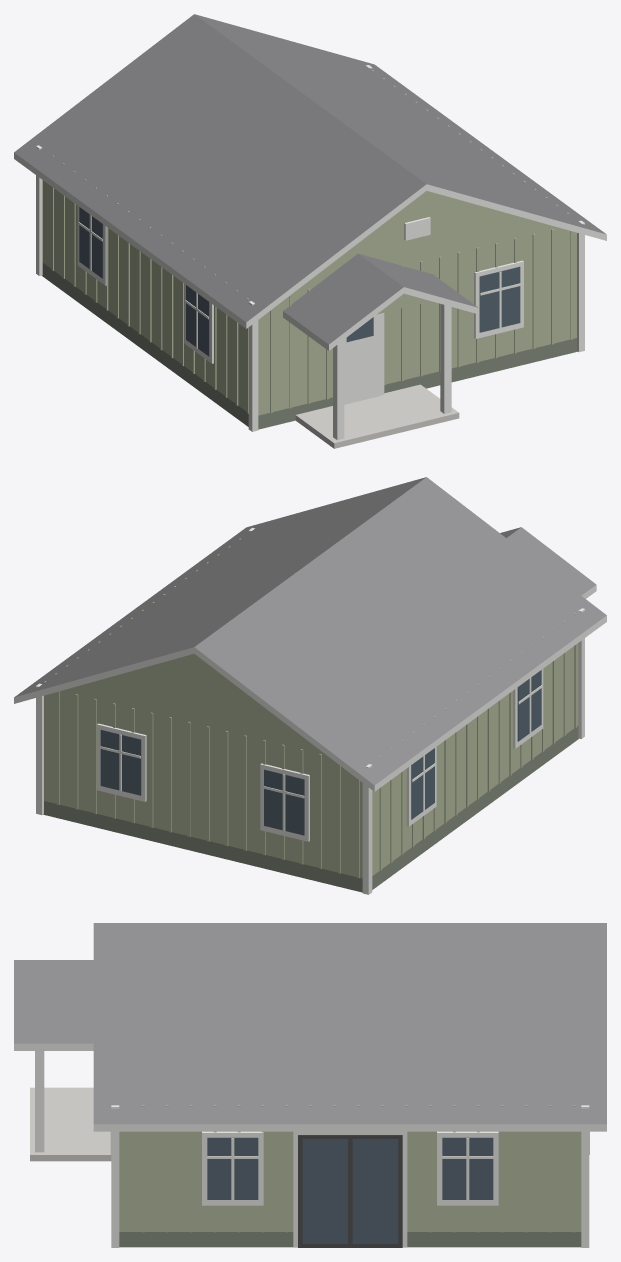
The model's file is manteca-sage.glb.
3 views of the same model, one above another, from view 1: azimuth 30°, elevation 25°; view 2: azimuth 150°, elevation 25°; view 3: azimuth 270°, elevation 25° (orthographic). The views are drawn at different scales.
Visible parts, largest first — view 1: The Manteca (sage); view 2: The Manteca (sage); view 3: The Manteca (sage).
Boxes of the visible parts, left/top/right/bottom form: The Manteca (sage): left=14, top=14, right=606, bottom=448; The Manteca (sage): left=14, top=477, right=606, bottom=894; The Manteca (sage): left=14, top=923, right=606, bottom=1247.
Size of the model in its own units: 8.08 by 4.58 by 10.41.
